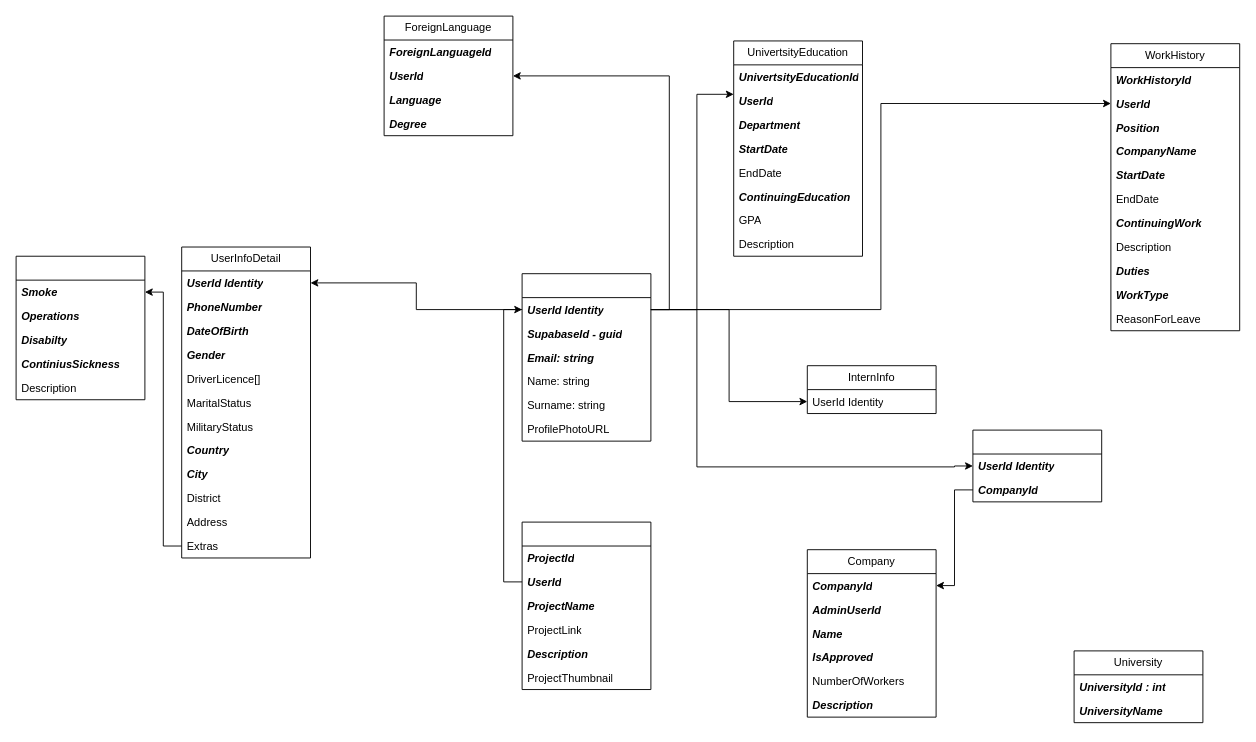
This 1256x742 diagram has some shape labels left out. The box of each missing label's shape, as (x1, y1, x2, y2) in pixels:
CompanyEmployee: (972, 429, 1102, 502)
Projects: (521, 521, 651, 690)
UserInfo: (521, 273, 651, 441)
UserInfoExtras: (15, 255, 145, 400)
